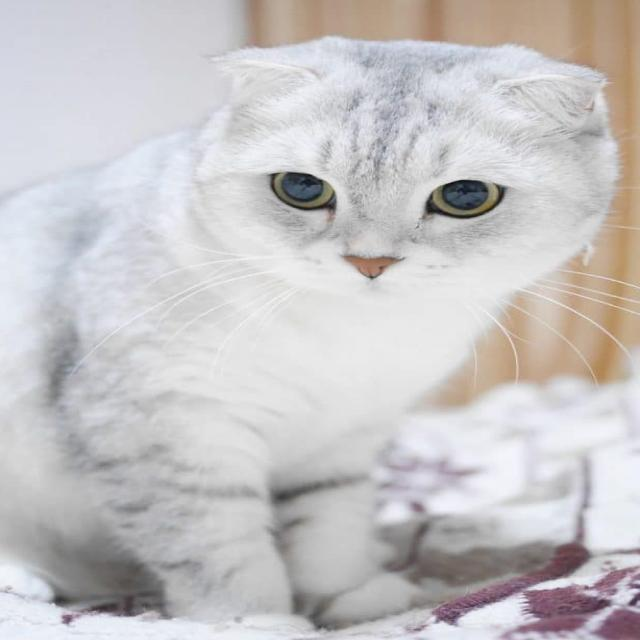Scottish Fold: (0, 32, 633, 633)
